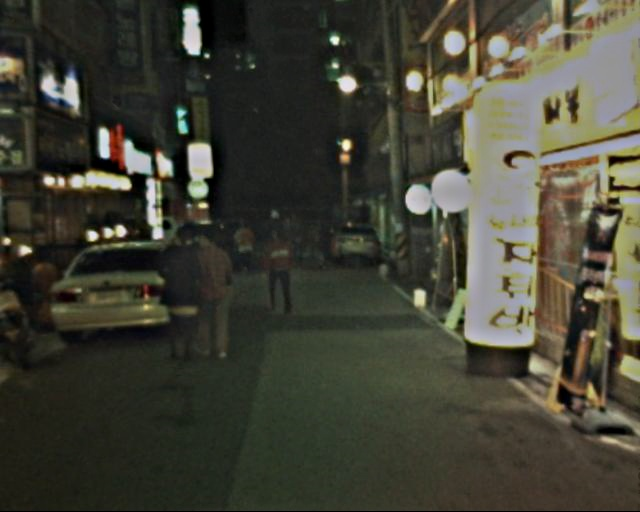person: (156, 224, 210, 374), (186, 223, 239, 368), (260, 224, 299, 320), (269, 204, 298, 279), (230, 217, 259, 283), (313, 221, 334, 276)
